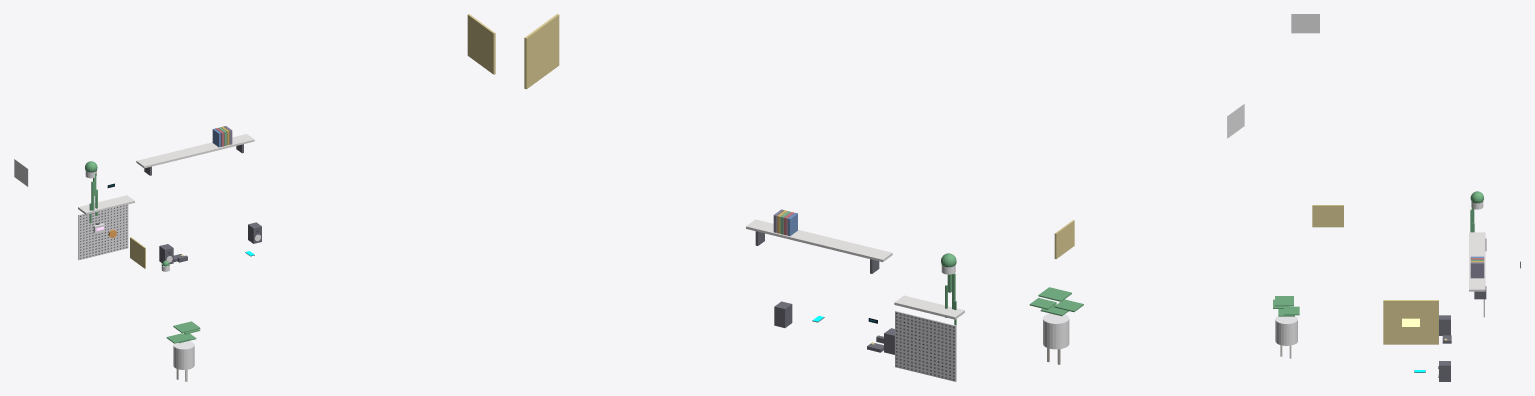
The model's file is group-b-props.glb.
3 renders of one model, left to right at view 1: azimuth 30°, elevation 25°; view 2: azimuth 150°, elevation 25°; view 3: azimuth 270°, elevation 25°, orthographic. The views are drawn at different scales.
Visible parts, largest first — view 1: pegboard_panel, painting_frame, shelf_rear_upper, pot_monstera, shelf_rear_lower; view 2: pegboard_panel, painting_frame, shelf_rear_upper, pot_monstera, shelf_rear_lower; view 3: painting_frame, shelf_rear_upper, certificate_frame, pot_monstera, certificate_glass, book_vol_5, speaker_left_cabinet, speaker_right_cabinet.
Part boxes in pixels (box(x1,y1,x2,y2)): pegboard_panel: box(78, 204, 128, 260); painting_frame: box(467, 14, 495, 74); shelf_rear_upper: box(136, 134, 254, 168); pot_monstera: box(173, 341, 194, 369); shelf_rear_lower: box(78, 195, 134, 214); pegboard_panel: box(895, 311, 956, 381); painting_frame: box(524, 14, 559, 89); shelf_rear_upper: box(746, 219, 892, 262); pot_monstera: box(1043, 313, 1069, 349); shelf_rear_lower: box(894, 295, 964, 319); painting_frame: box(1383, 300, 1438, 344); shelf_rear_upper: box(1469, 232, 1485, 291); certificate_frame: box(1312, 205, 1343, 227); pot_monstera: box(1275, 316, 1297, 345); certificate_glass: box(1291, 14, 1319, 33); book_vol_5: box(1470, 262, 1484, 278); speaker_left_cabinet: box(1439, 315, 1450, 335); speaker_right_cabinet: box(1439, 361, 1450, 381).
Bounding box in the file's own units: 8.32 × 3.84 × 3.29.
21 materials, 3 textured.
